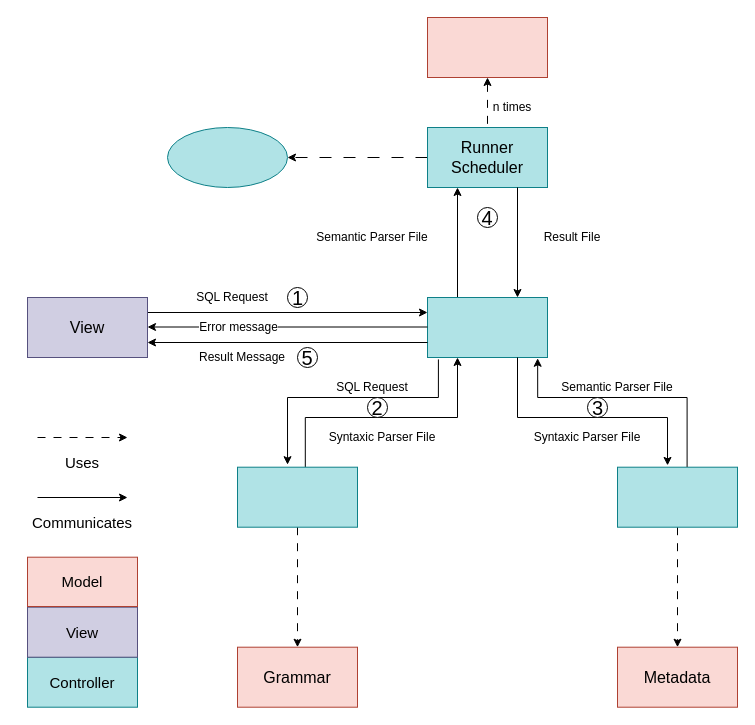
Image size: 755x725. Some labels were removed from this diagram. The centre of each missing label's shape, as x and y in pixels:
"Engine" goes at (x=487, y=327).
"Operands Library" goes at (x=227, y=157).
"Semantic Parser" goes at (x=677, y=496).
"Syntaxic Parser" goes at (x=297, y=496).
"Table Data" goes at (x=487, y=47).
